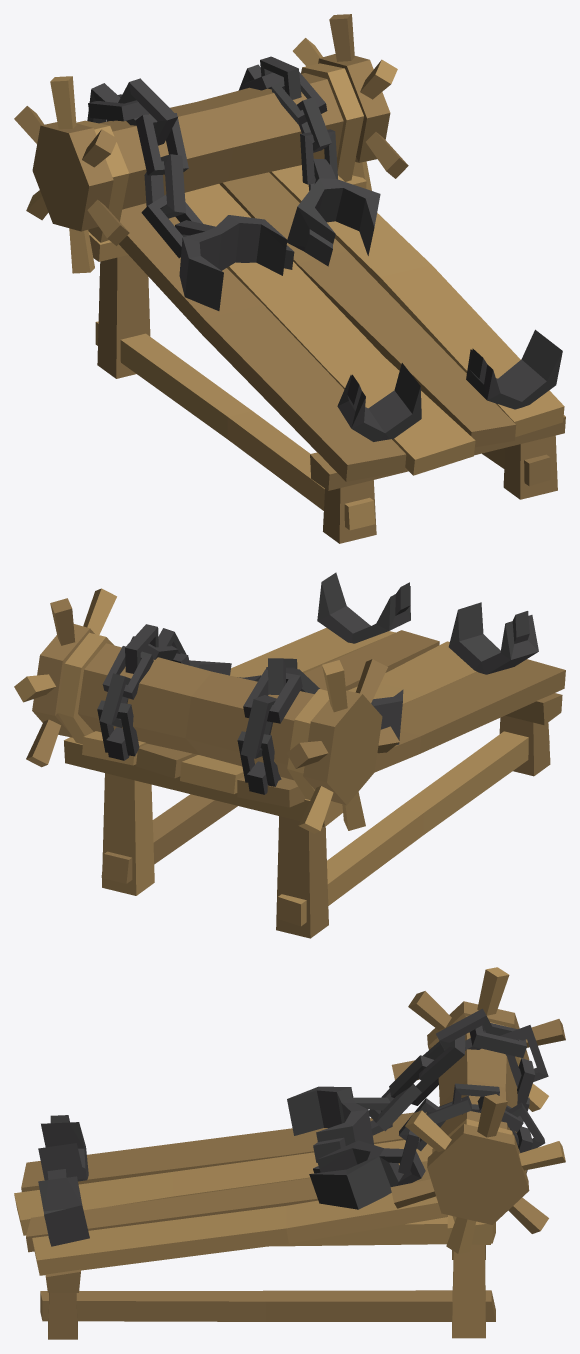
The model's file is Torture_Machine.gltf.
3 renders of one model, top to bottom at view 1: azimuth 30°, elevation 25°; view 2: azimuth 150°, elevation 25°; view 3: azimuth 270°, elevation 25°, orthographic. The views are drawn at different scales.
Visible parts, largest first — view 1: Torture_Machine2; view 2: Torture_Machine2; view 3: Torture_Machine2.
Boxes of the visible parts, x1,y1,x2,y2 form: Torture_Machine2: (14,14,565,543); Torture_Machine2: (14,572,565,938); Torture_Machine2: (14,967,565,1339).
Size of the model in its own units: 0.3938 by 0.3646 by 0.6953.
Materials: 1 (1 with a texture image).
